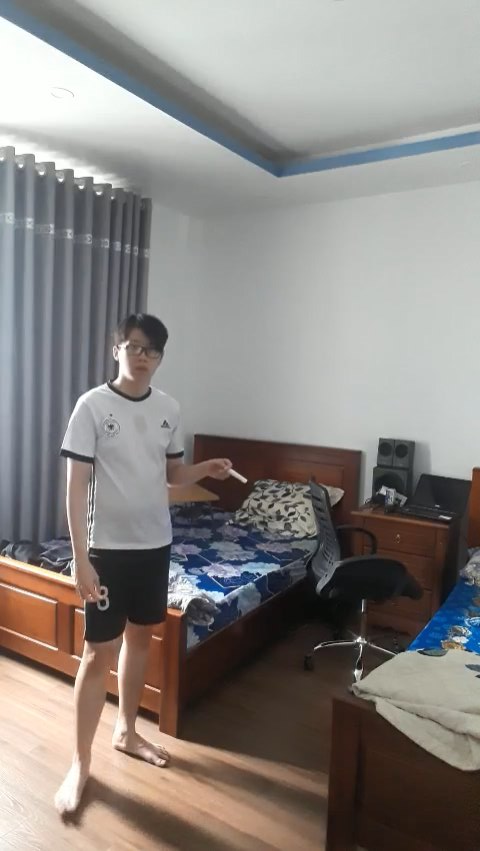cigarette: (231, 468, 249, 484)
person: (36, 296, 242, 819)
